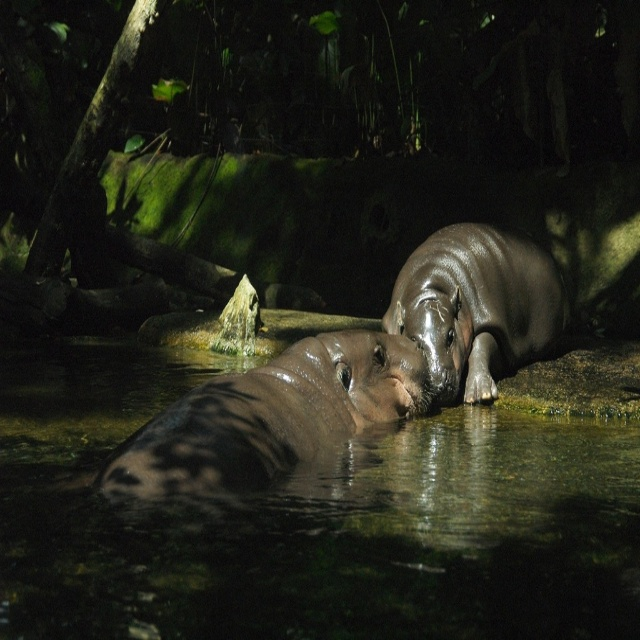Hippopotamus: (90, 328, 436, 499), (382, 224, 570, 403)
